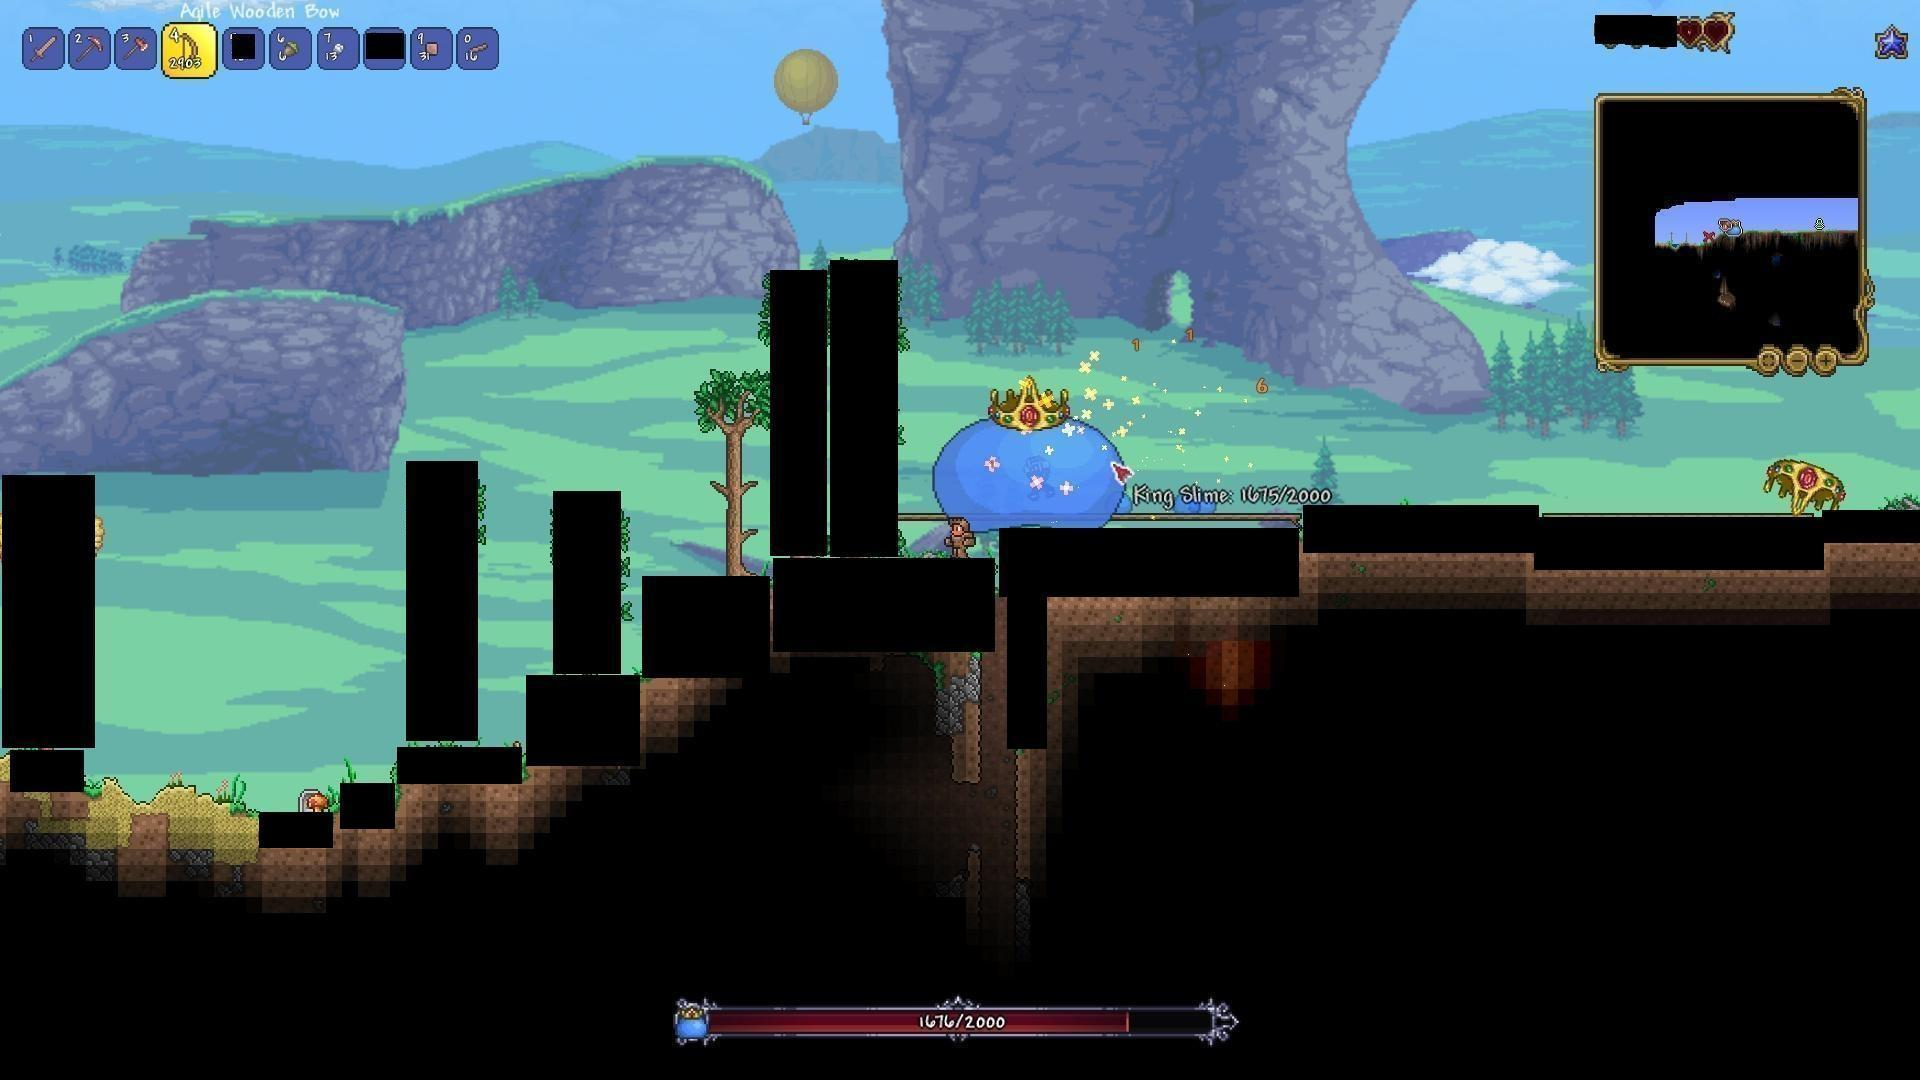tree: (698, 357, 769, 575)
